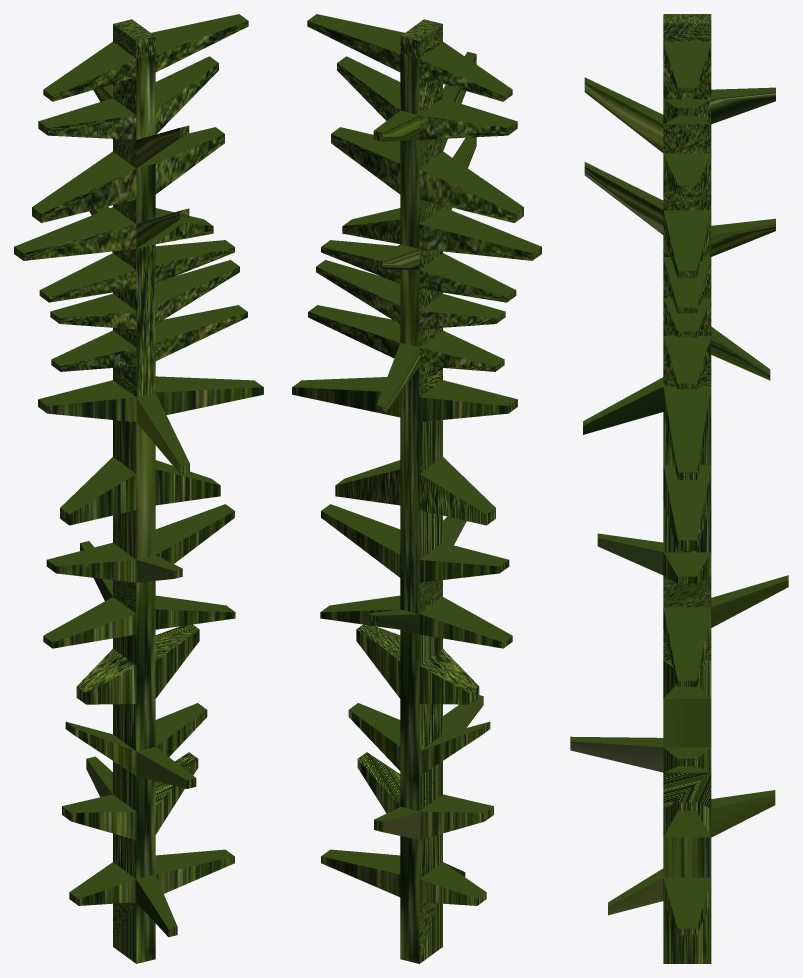
Rendered from dont look close.obj.
The picture shows the model from 3 angles, left to right: view 1: azimuth 30°, elevation 25°; view 2: azimuth 150°, elevation 25°; view 3: azimuth 270°, elevation 25°; orthographic projection.
Visible parts, largest first — view 1: Box001; view 2: Box001; view 3: Box001.
Part boxes in pixels (bbox=[...]): Box001: bbox=[14, 14, 263, 963]; Box001: bbox=[292, 14, 541, 963]; Box001: bbox=[570, 14, 788, 963].
Bounding box in the file's own units: 47.32 × 174 × 36.5.
